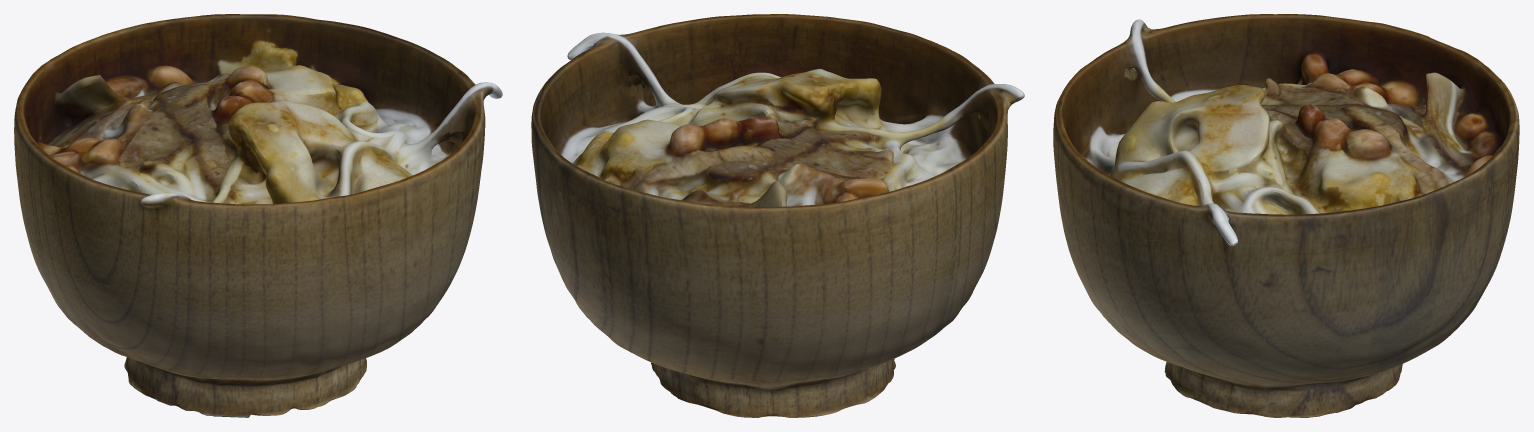
The model's file is RiceNoodle.glb.
The picture shows the model from 3 angles, left to right: view 1: azimuth 30°, elevation 25°; view 2: azimuth 150°, elevation 25°; view 3: azimuth 270°, elevation 25°; orthographic projection.
Parts seen in each view (by area): view 1: RiceNoodle_LP; view 2: RiceNoodle_LP; view 3: RiceNoodle_LP.
Boxes of the visible parts, bbox=[...] form: RiceNoodle_LP: bbox=[14, 14, 502, 417]; RiceNoodle_LP: bbox=[531, 14, 1024, 417]; RiceNoodle_LP: bbox=[1053, 14, 1519, 417].
Bounding box in the file's own units: 0.3025 × 0.1837 × 0.283.
1 material, 1 textured.
